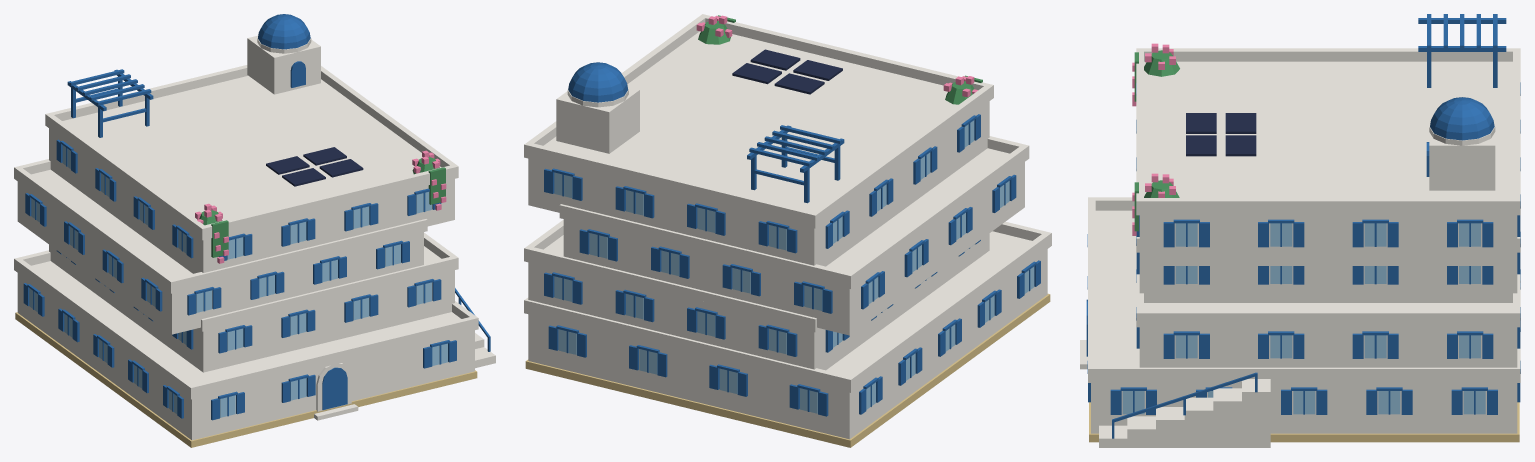
The model's file is house-2x2-4f-aegean-a-solar.glb.
The picture shows the model from 3 angles, left to right: view 1: azimuth 30°, elevation 25°; view 2: azimuth 150°, elevation 25°; view 3: azimuth 270°, elevation 25°; orthographic projection. The views are drawn at different scales.
Parts seen in each view (by area): view 1: house-2x2-4f-aegean-a-solar; view 2: house-2x2-4f-aegean-a-solar; view 3: house-2x2-4f-aegean-a-solar.
Part boxes in pixels (bbox=[...]): house-2x2-4f-aegean-a-solar: bbox=[14, 14, 495, 447]; house-2x2-4f-aegean-a-solar: bbox=[524, 14, 1051, 447]; house-2x2-4f-aegean-a-solar: bbox=[1080, 14, 1520, 447].
Bounding box in the file's own units: 1.99 × 1.59 × 2.
Materials: 1 (1 with a texture image).
